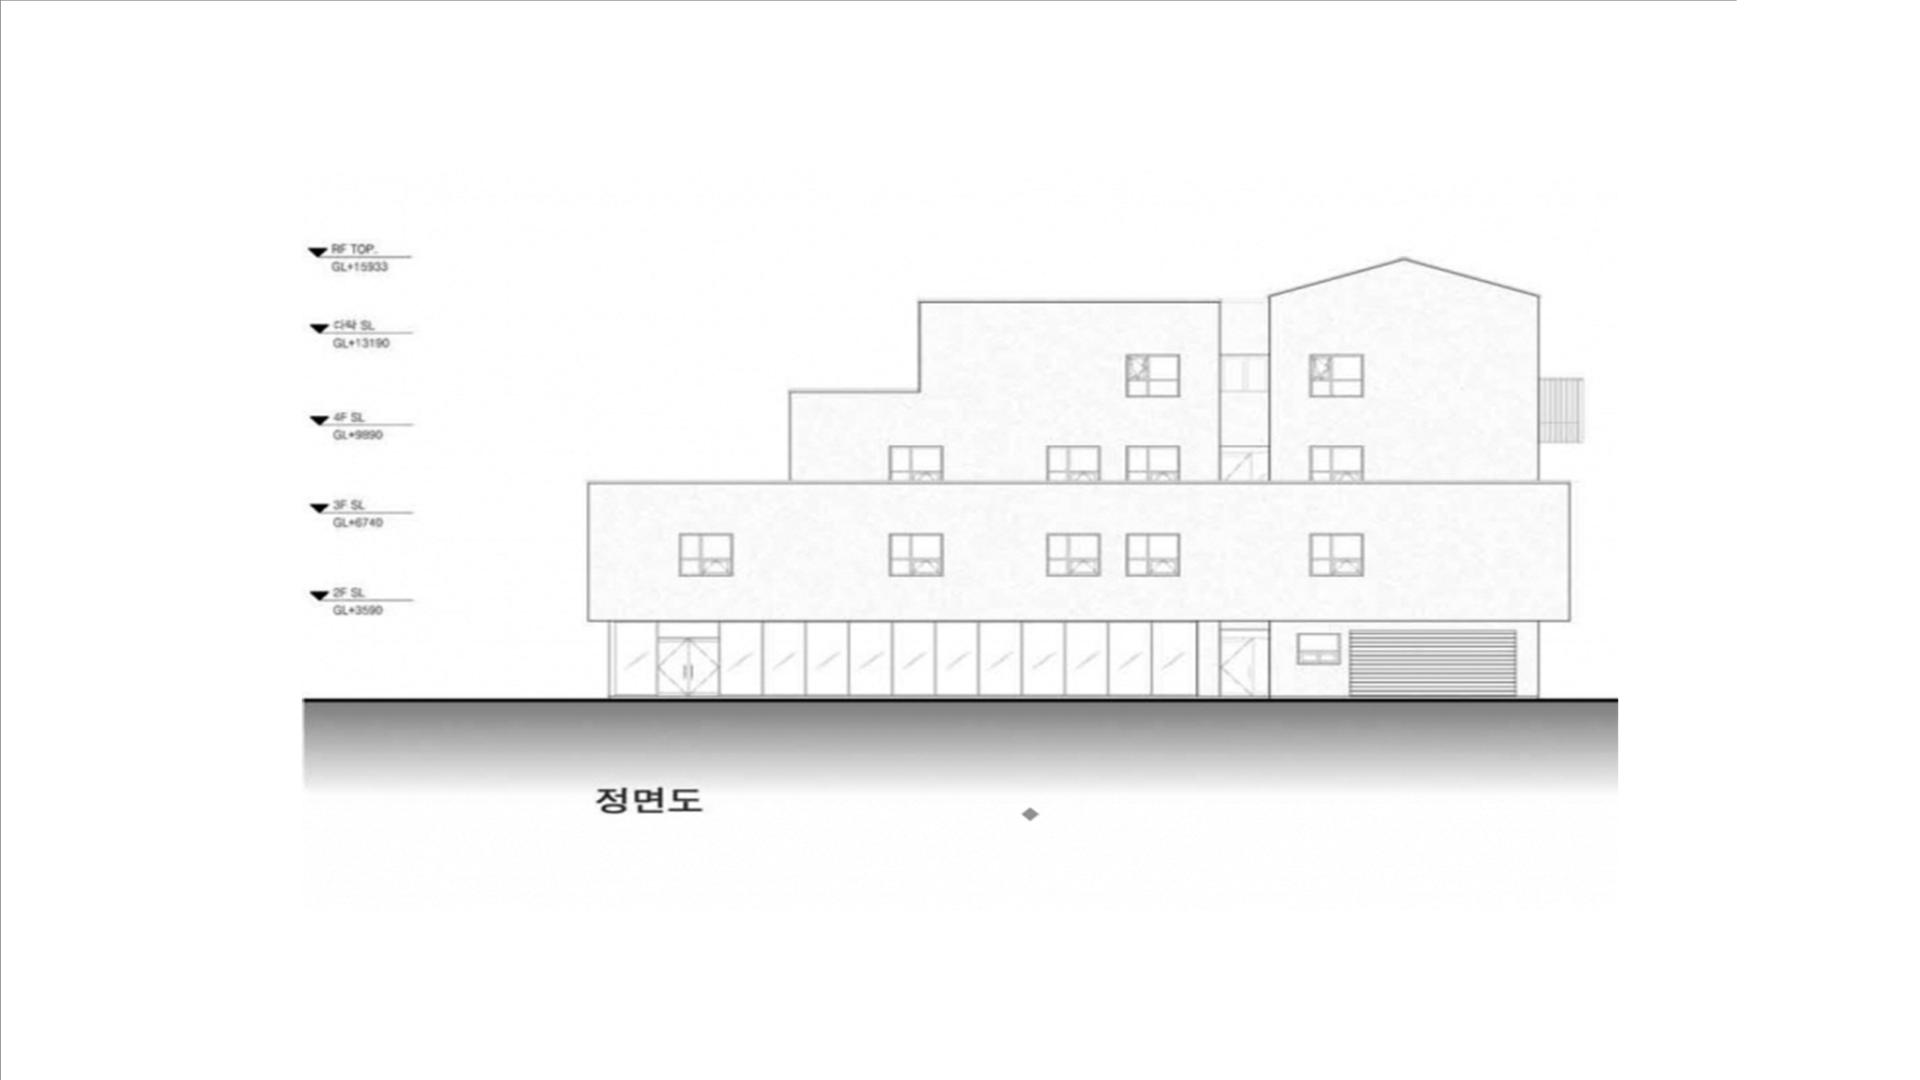door: (658, 621, 720, 698), (1220, 629, 1270, 699)
wall: (588, 258, 1571, 702)
window: (1151, 621, 1197, 699), (1105, 621, 1151, 698), (894, 621, 938, 699), (851, 621, 894, 699), (806, 621, 849, 699), (764, 621, 807, 699), (720, 621, 764, 699), (615, 621, 658, 698), (980, 621, 1022, 699), (938, 621, 980, 699), (1023, 621, 1064, 699), (1065, 621, 1105, 698), (1047, 534, 1100, 576), (889, 534, 942, 576), (1126, 355, 1178, 397), (1311, 355, 1362, 397), (1312, 534, 1364, 576), (1127, 534, 1179, 576), (680, 534, 732, 576), (889, 446, 942, 484), (1047, 446, 1100, 484), (1126, 446, 1179, 484), (1309, 446, 1362, 484), (1298, 633, 1340, 665)
